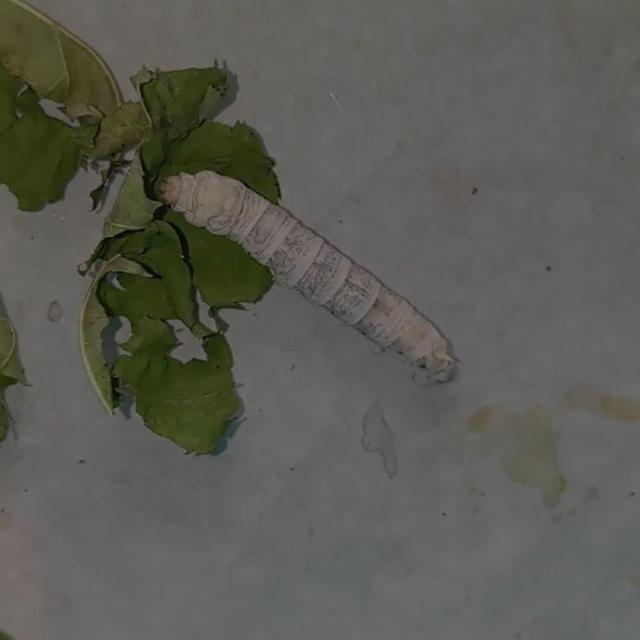Grasserie: (153, 153, 460, 396)
